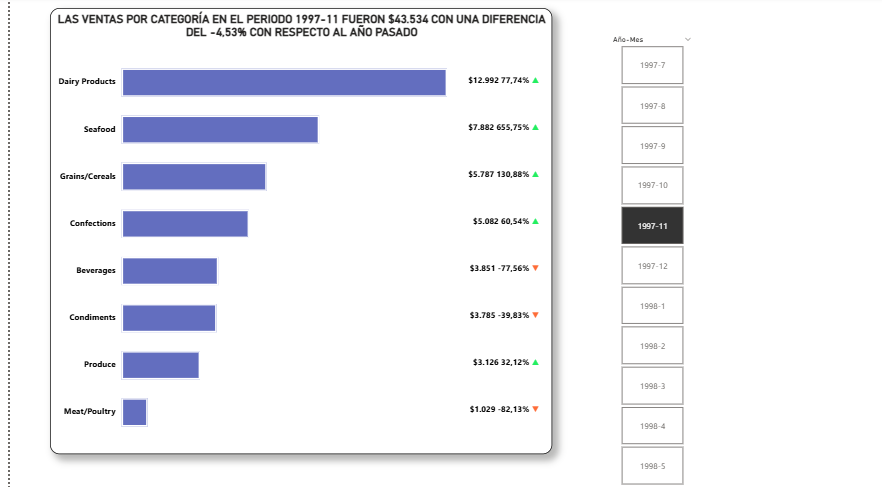

The page's visual inventory and layout, read from the dashboard file:
{"tool":"powerbi","page":{"name":"BARRA","canvas":[1280,720],"ordinal":1},"visuals":[{"type":"slicer","fields":{"Values":["CALENDARIO.Año-Mes"]},"box":[869,51.2,140.5,669],"z":1000},{"type":"clusteredBarChart","fields":{"Category":["Categories.CategoryName"],"Y":["MEDIDAS.MAX CATE SELE","MEDIDAS.VENTAS"]},"box":[59,16.1,734.7,652.5],"z":2000}]}

Visuals, with their boxes in screenshot pixels (x1, y1, x2, y2), scaled from the page's 1280x720 canvas onto the 882x487 screenshot:
slicer - CALENDARIO.Año-Mes: 599:35:696:486
clusteredBarChart - Categories.CategoryName x MEDIDAS.MAX CATE SELE: 41:11:547:452
